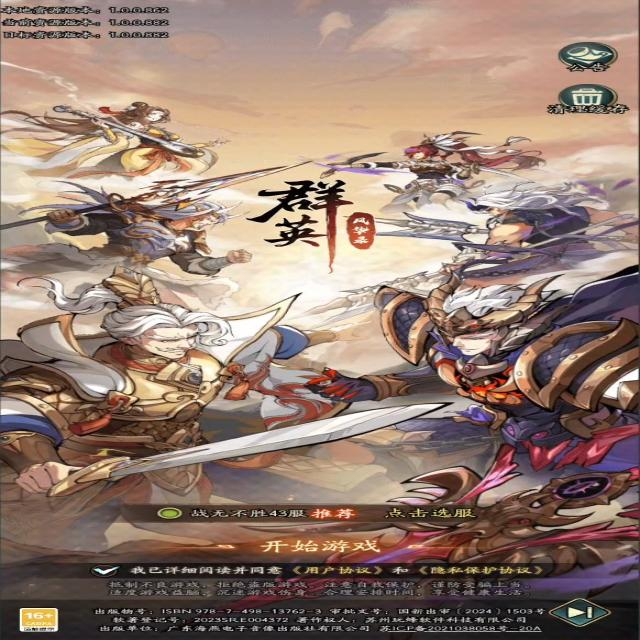operation-enter: (250, 536, 384, 555)
system-cleanUpCache: (550, 84, 628, 114)
system-notices: (557, 39, 626, 76)
system-protocol-box: (88, 562, 121, 576), (90, 564, 118, 576)
system-skip: (549, 598, 610, 626)
